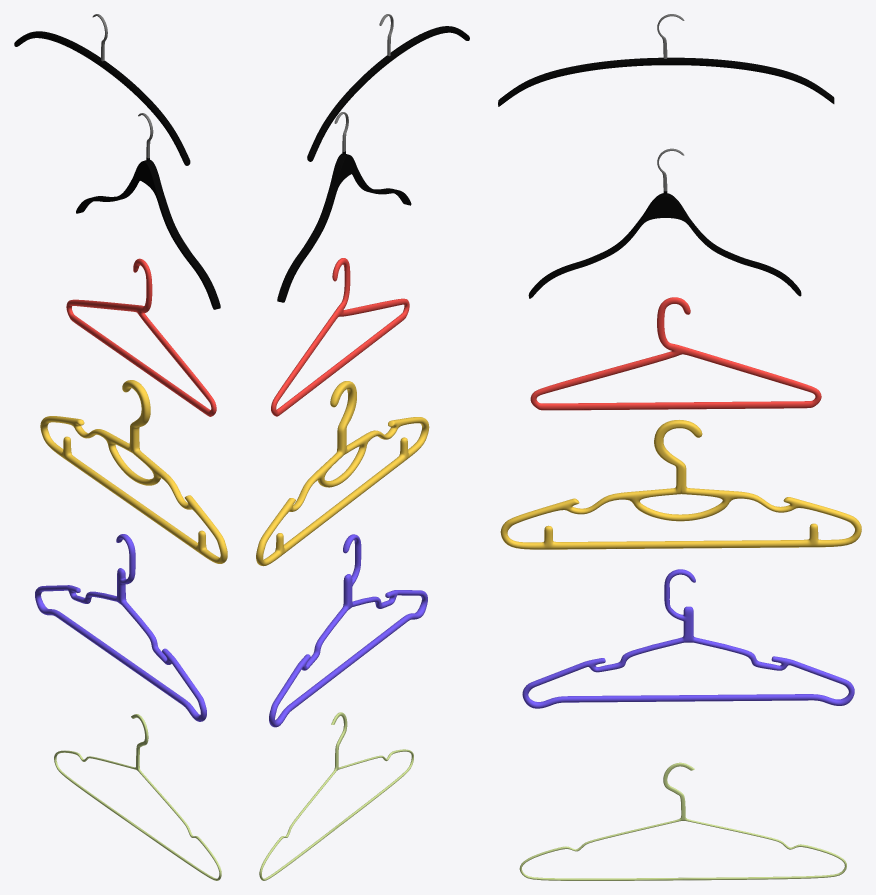
Rendered from uploads_files_3470426_hanger.fbx.
The picture shows the model from 3 angles, left to right: view 1: azimuth 30°, elevation 25°; view 2: azimuth 150°, elevation 25°; view 3: azimuth 270°, elevation 25°; orthographic projection. The views are drawn at different scales.
Visible parts, largest first — view 1: hanger 1, hanger 2, hanger 4, hanger 5, hanger 6, hanger 3; view 2: hanger 1, hanger 2, hanger 4, hanger 5, hanger 6, hanger 3; view 3: hanger 1, hanger 2, hanger 4, hanger 6, hanger 5, hanger 3.
Boxes of the visible parts, x1,y1,x2,y2 form: hanger 1: (40,380,227,563); hanger 2: (35,534,206,721); hanger 4: (66,258,216,416); hanger 5: (76,113,220,309); hanger 6: (14,14,190,165); hanger 3: (54,714,221,880); hanger 1: (256,381,429,566); hanger 2: (269,534,427,727); hanger 4: (271,258,409,416); hanger 5: (277,112,411,302); hanger 6: (307,14,469,161); hanger 3: (259,712,413,880); hanger 1: (500,420,861,549); hanger 2: (522,569,854,708); hanger 4: (530,297,821,410); hanger 6: (498,14,834,106); hanger 5: (528,148,801,298); hanger 3: (519,762,846,880).
Size of the model in its own units: 8.33 by 115 by 45.07.
